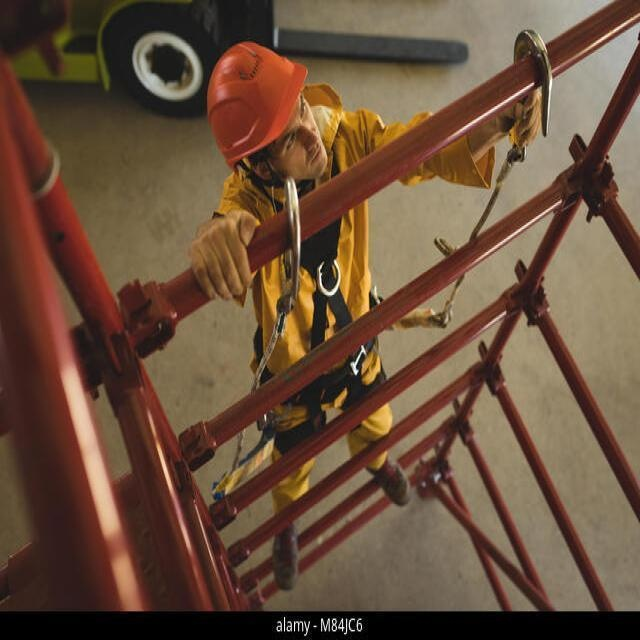Arnes_seguridad: (240, 117, 384, 450)
